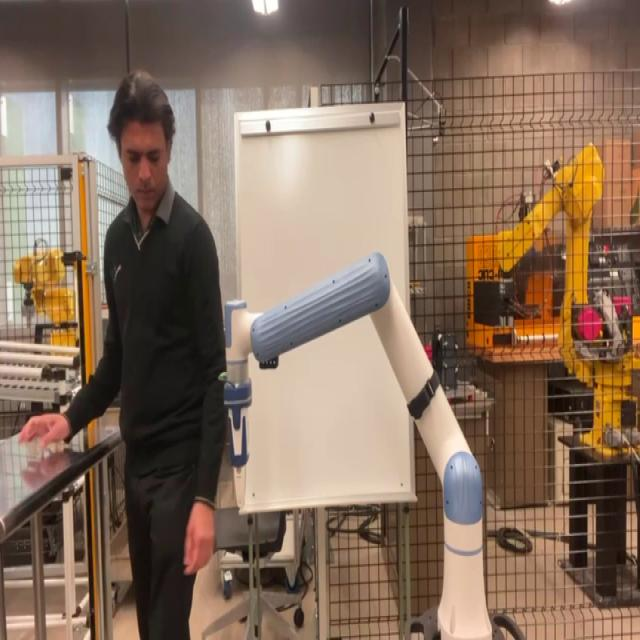robot: (210, 250, 525, 638)
